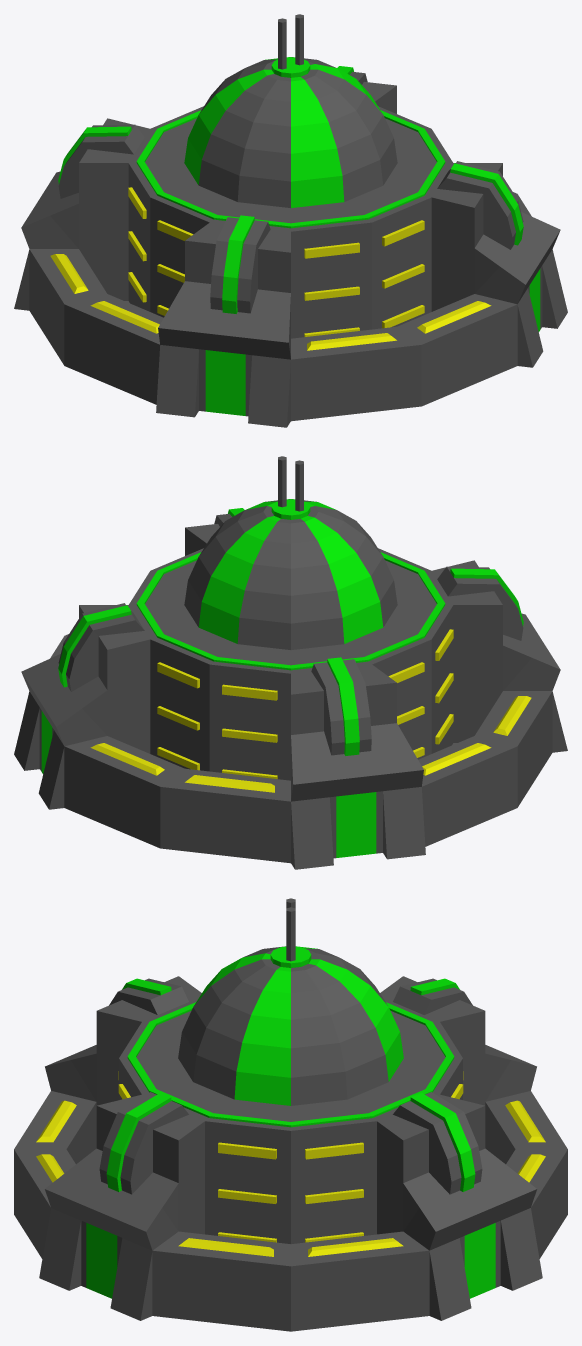
Rendered from Turret.fbx.
3 views of the same model, one above another, from view 1: azimuth 30°, elevation 25°; view 2: azimuth 150°, elevation 25°; view 3: azimuth 270°, elevation 25° (orthographic). The views are drawn at different scales.
Visible parts, largest first — view 1: TurretBase, TurretHead, Turrets; view 2: TurretBase, TurretHead, Turrets; view 3: TurretBase, TurretHead, Turrets.
Part boxes in pixels (bbox=[...]): TurretBase: bbox=[14, 66, 567, 427]; TurretHead: bbox=[184, 57, 397, 207]; Turrets: bbox=[278, 14, 303, 69]; TurretBase: bbox=[14, 508, 567, 869]; TurretHead: bbox=[184, 499, 397, 649]; Turrets: bbox=[278, 456, 303, 511]; TurretBase: bbox=[14, 976, 567, 1331]; TurretHead: bbox=[178, 946, 403, 1105]; Turrets: bbox=[286, 898, 295, 961].
Bounding box in the file's own units: 1.51 × 0.929 × 1.51.
